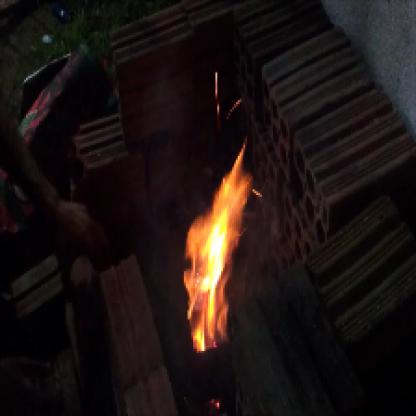Fire: (169, 136, 264, 354)
